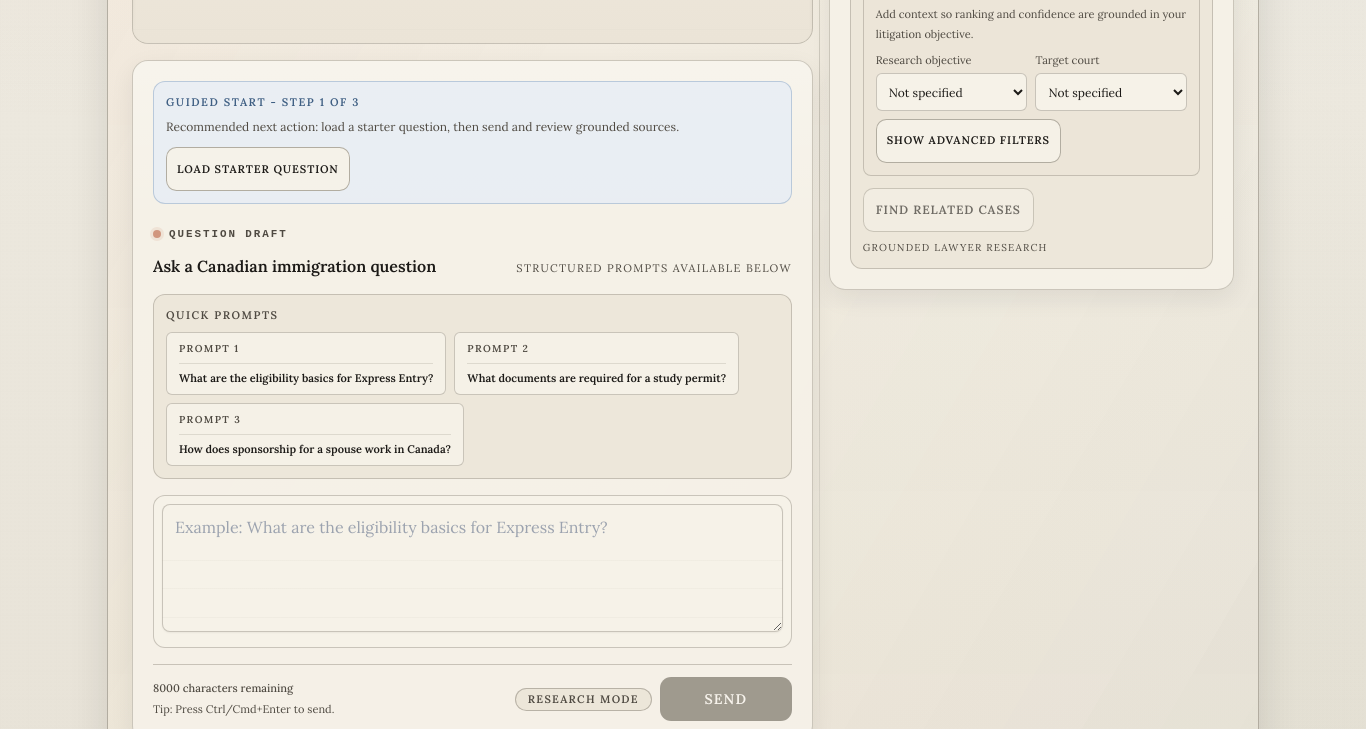
Test case: chat shell contract behavior › requires structured intake details before broad manual case-law search
(page scrolled)
Type "Find case law" into the text box labelled "Ask a Canadian immigration question".
click(472, 568); type("Find case law")  # box [162, 504, 783, 632]
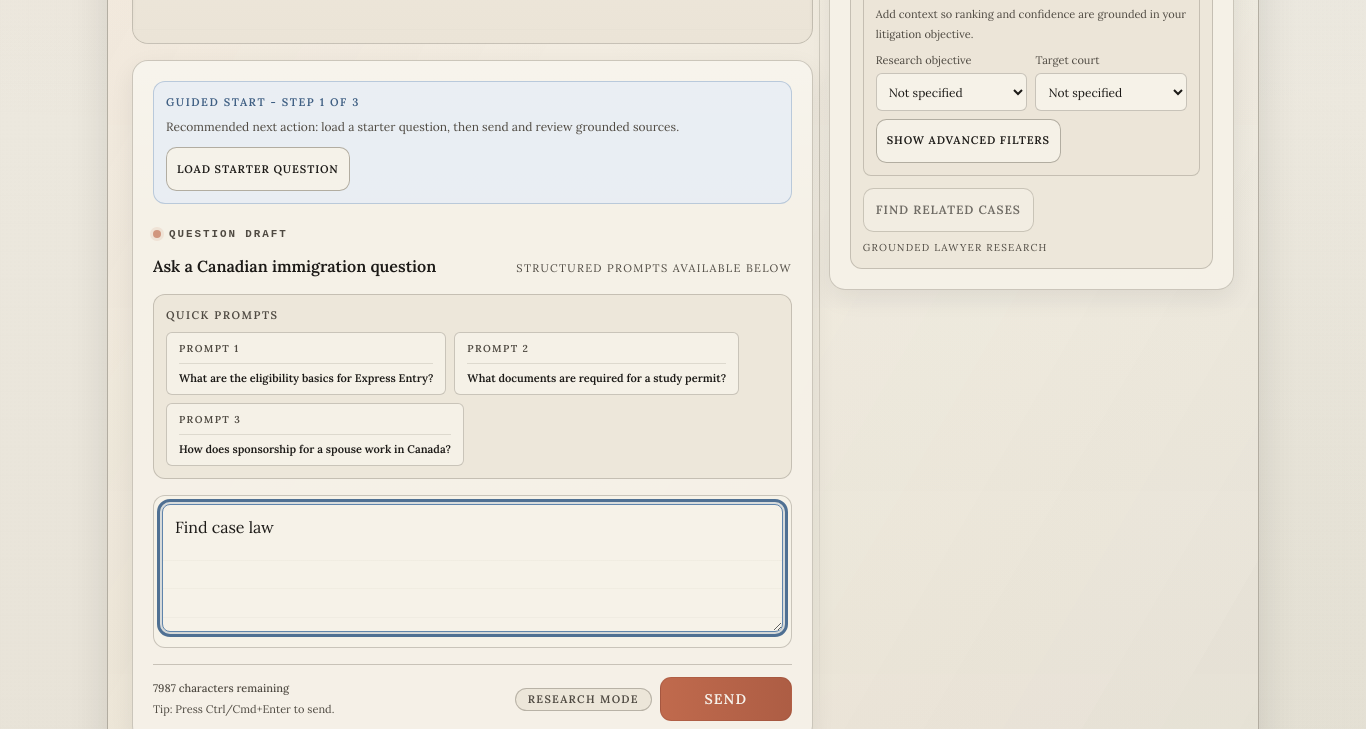
Click the button "Send".
click(726, 699)  # box [660, 677, 792, 721]
(page scrolled)
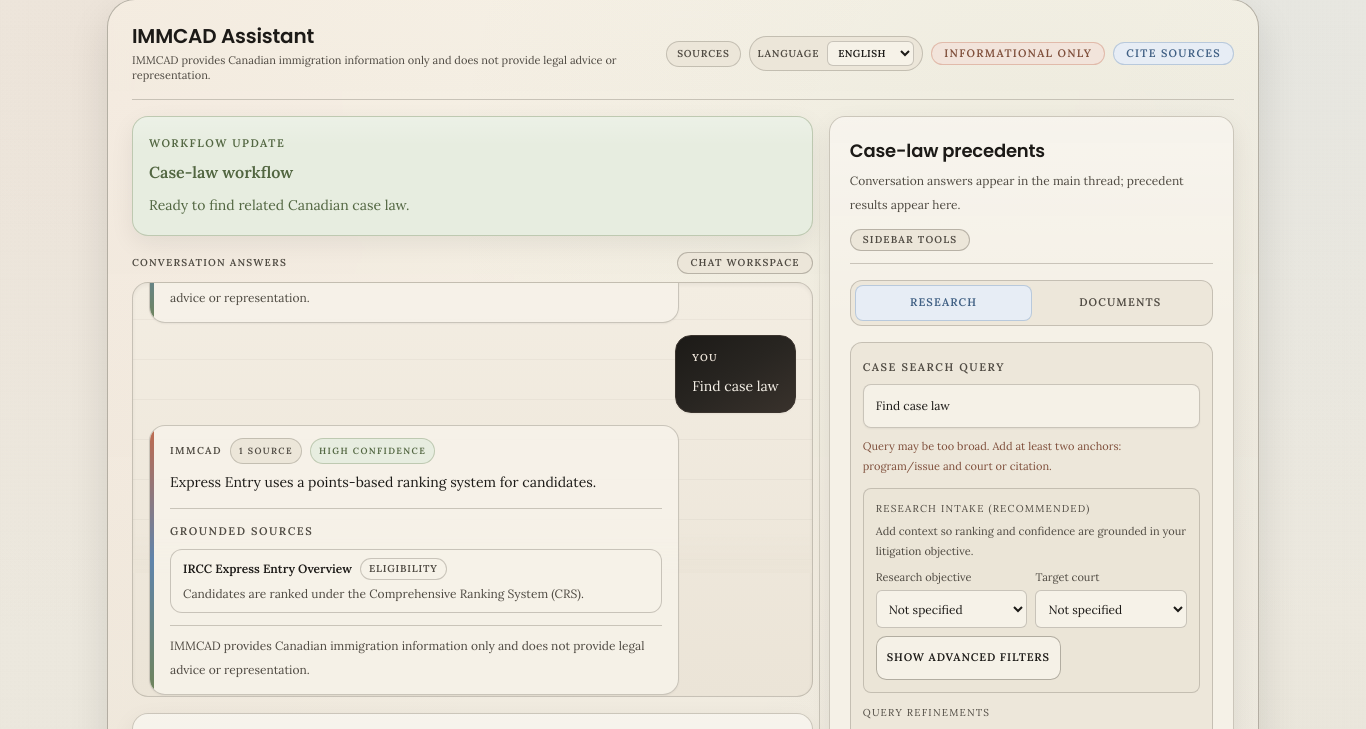
Result: the text "Express Entry uses a points-based ranking system for candidates." is shown at [170, 468, 662, 496]
Replace the text in the field labelled "Case search query" with "to be" at [1031, 406], box [863, 384, 1200, 428]
(page scrolled)
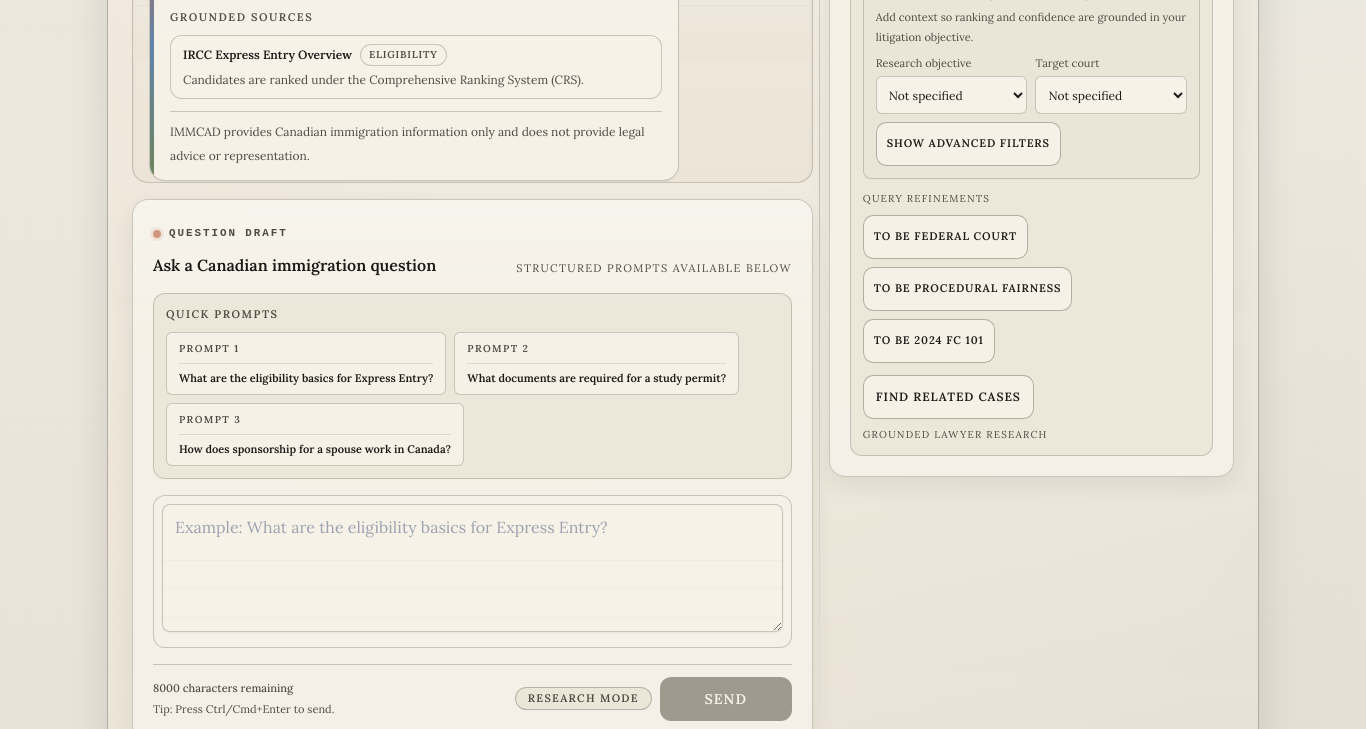
Click the button "Find related cases".
click(948, 397)  # box [863, 375, 1034, 419]
(page scrolled)
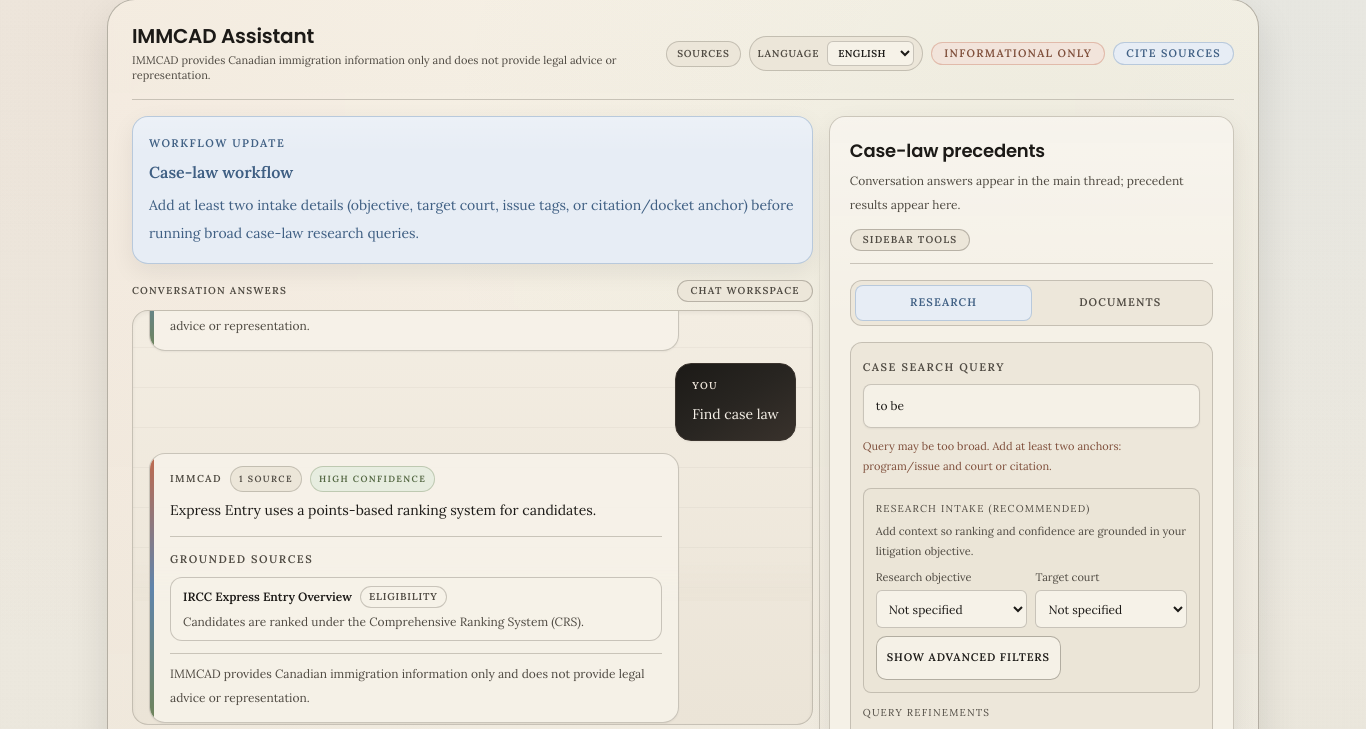
Result: the text "Add at least two intake details (objective, target court, issue tags, or citation/docket anchor) before running broad ca" is shown at [149, 196, 794, 242]
